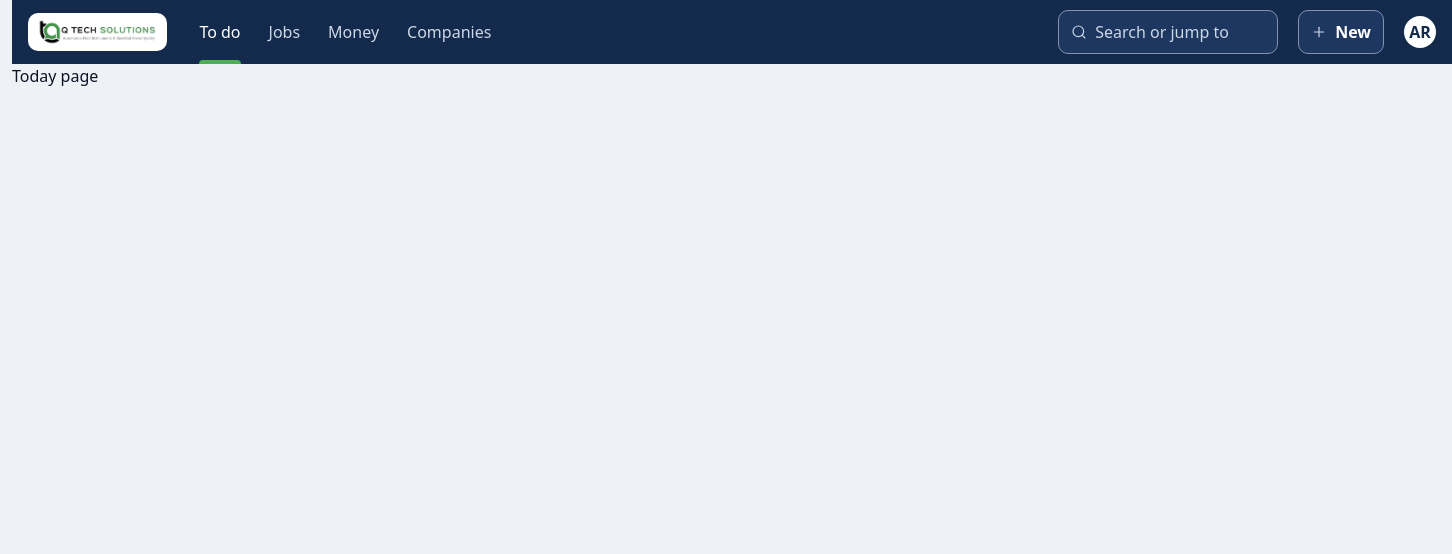
Test: account menu (U03, on Popover) › Change password is in the menu and goes to /settings/password
What coordinates should you click on to do the following:
click the button named "Account menu, Ayesha Rana"
I would click on:
 (1420, 32)
Its box is top-left (1404, 16), bottom-right (1436, 48).
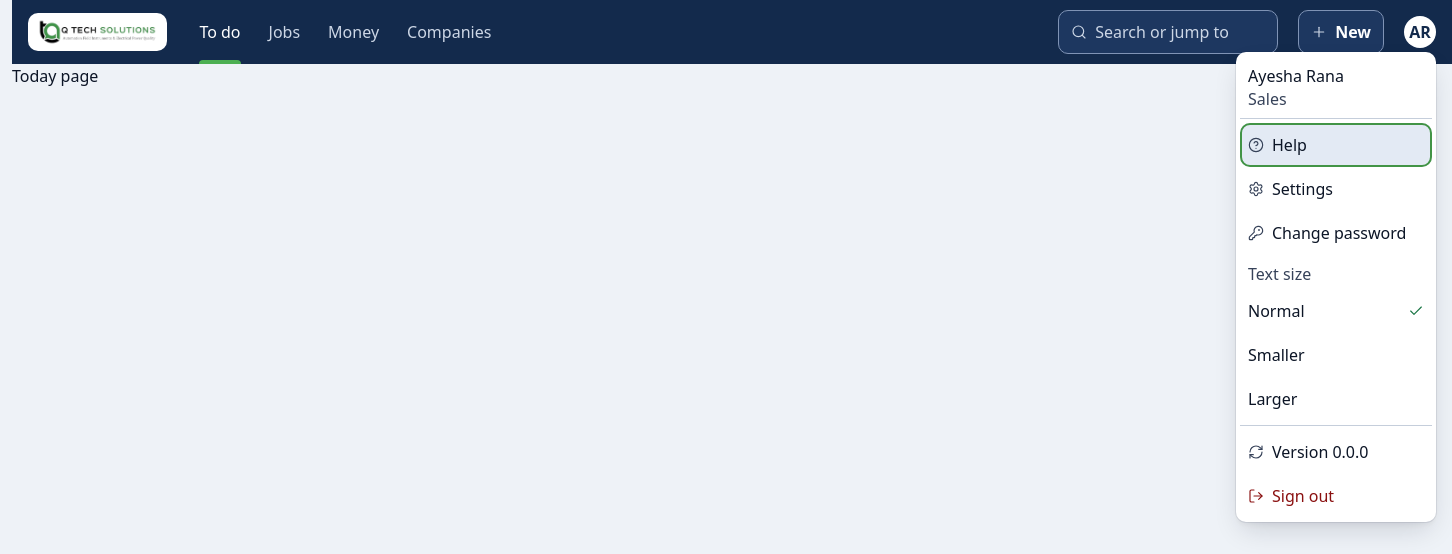
What coordinates should you click on to do the following:
click the menu item "Change password"
I would click on:
 (1336, 233)
Its box is top-left (1240, 211), bottom-right (1432, 255).
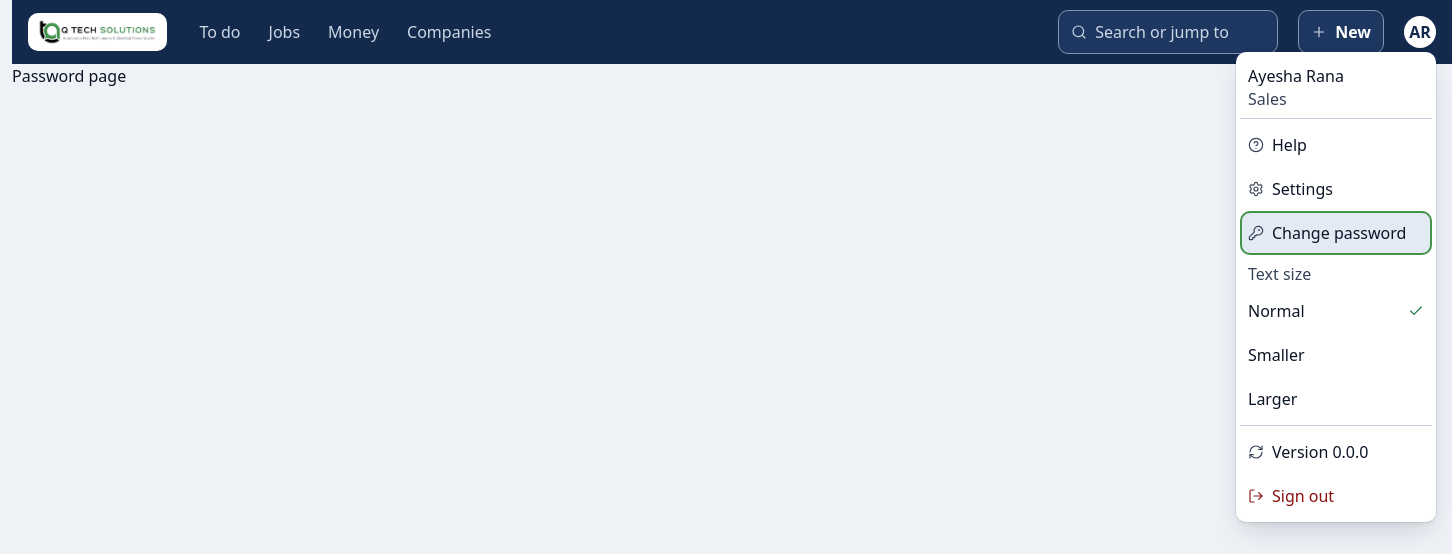
Result: the text "Password page" is shown at top-left (12, 65), bottom-right (126, 87)
